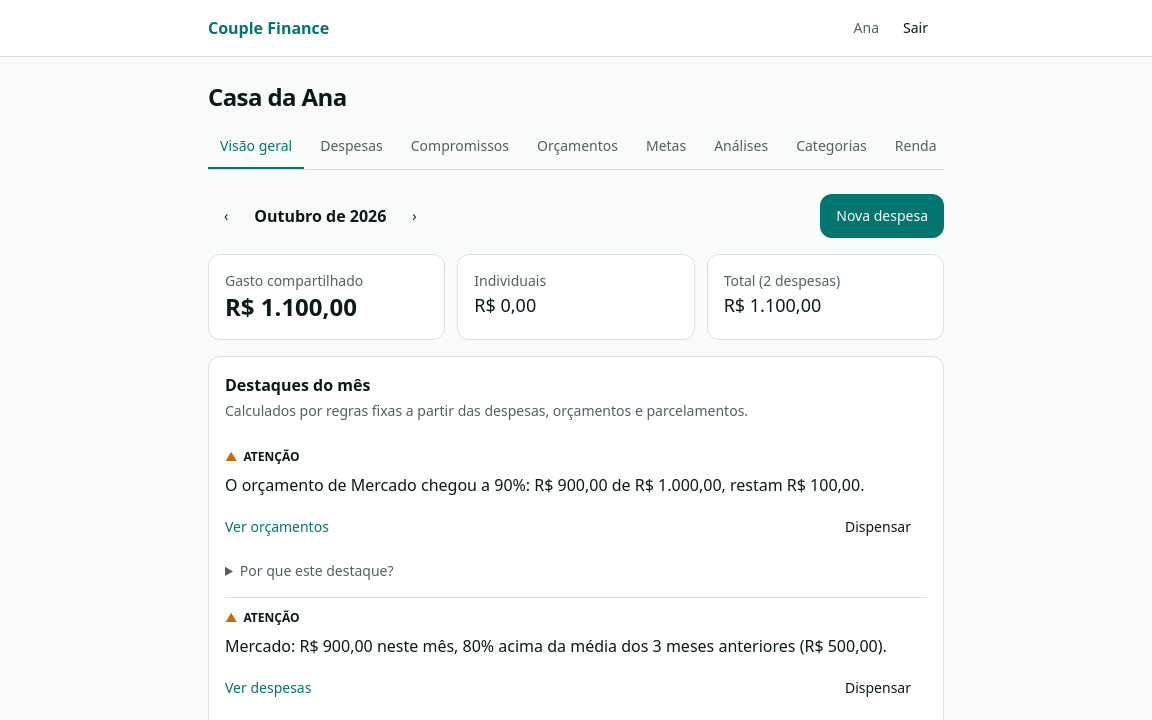
Scenario: insights card › dismisses an insight for this user and undoes it
Click the button with aria-label "Dispensar: O orçamento de Mercado".
click(878, 527)  # box [829, 505, 927, 549]
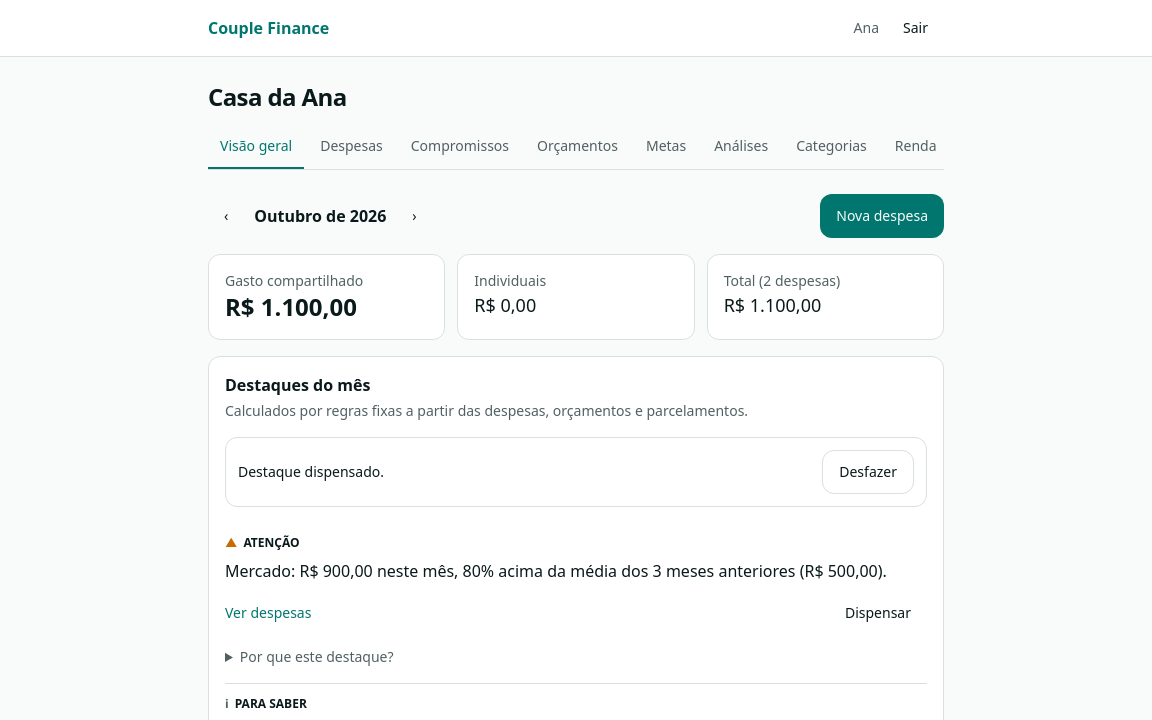
Result: the text "O orçamento de Mercado chegou" is gone
Click the button "Desfazer".
click(868, 472)  # box [822, 450, 914, 494]
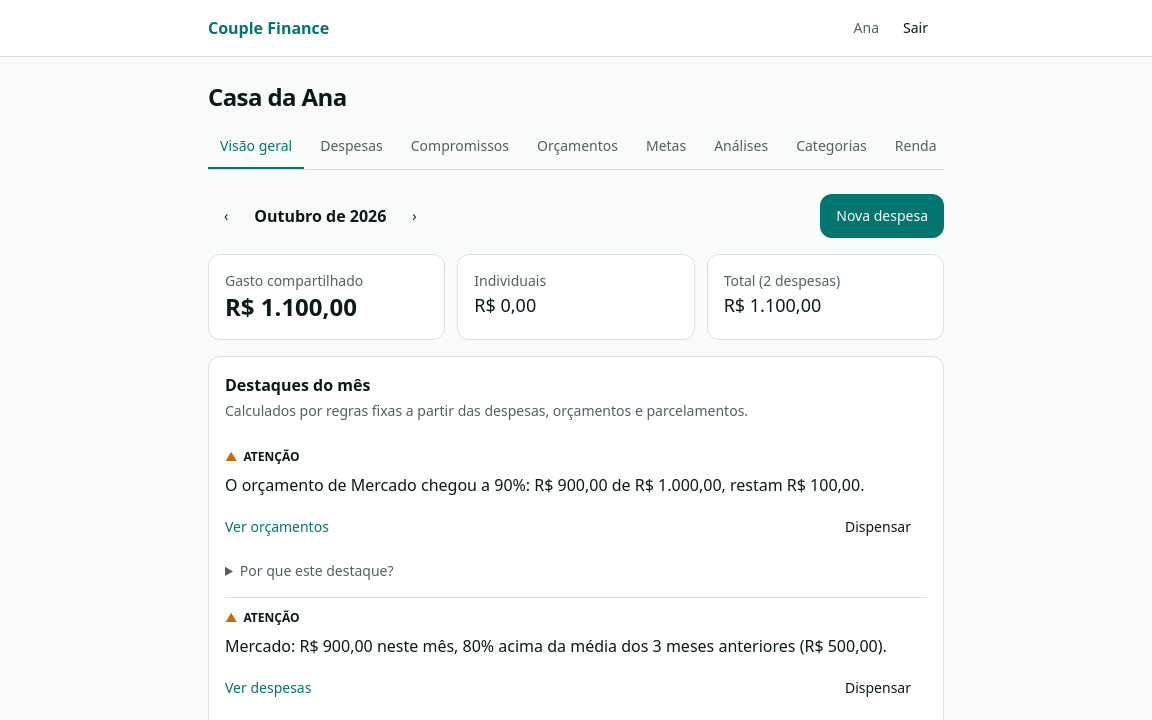
Result: the text "O orçamento de Mercado chegou" is shown at [225, 474, 864, 496]
